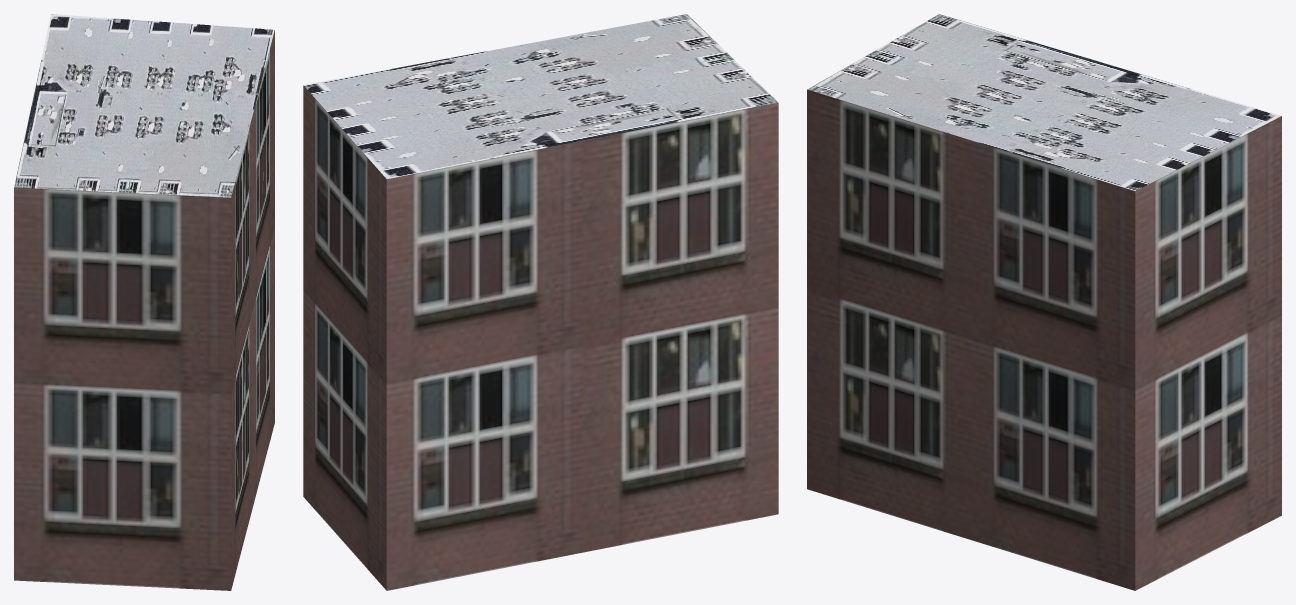
Rendered from ResTex__5209.fbx.
The picture shows the model from 3 angles, left to right: view 1: azimuth 30°, elevation 25°; view 2: azimuth 150°, elevation 25°; view 3: azimuth 270°, elevation 25°; orthographic projection. The views are drawn at different scales.
Visible parts, largest first — view 1: CityEngineMaterial_12_m, CityEngineMaterial_m; view 2: CityEngineMaterial_12_m, CityEngineMaterial_m; view 3: CityEngineMaterial_12_m, CityEngineMaterial_m.
Boxes of the visible parts, x1,y1,x2,y2 form: CityEngineMaterial_12_m: [14, 30, 274, 590]; CityEngineMaterial_m: [14, 14, 274, 197]; CityEngineMaterial_12_m: [303, 85, 778, 590]; CityEngineMaterial_m: [304, 14, 777, 178]; CityEngineMaterial_12_m: [807, 89, 1281, 590]; CityEngineMaterial_m: [807, 14, 1281, 190].
Size of the model in its own units: 5.71 by 6 by 6.46.
2 materials, 2 textured.
